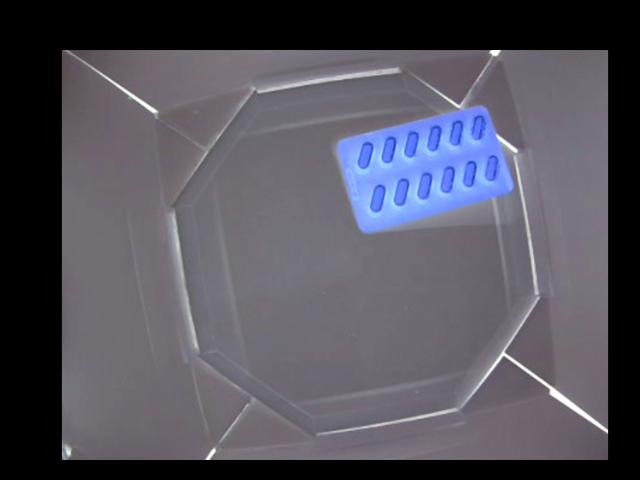Medicine: (335, 103, 513, 231)
